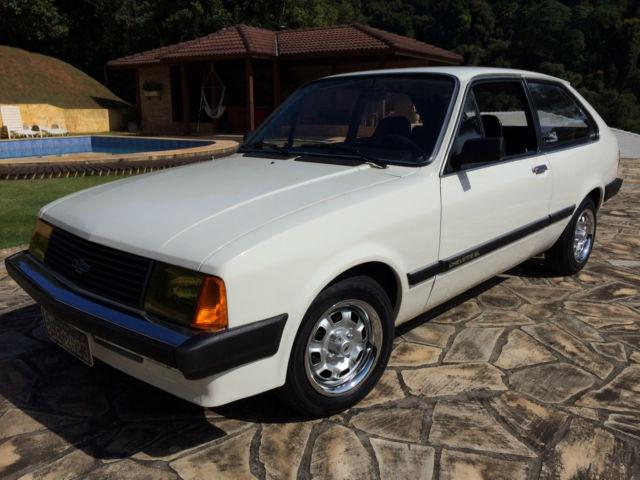chevette-1983: (6, 67, 620, 415)
